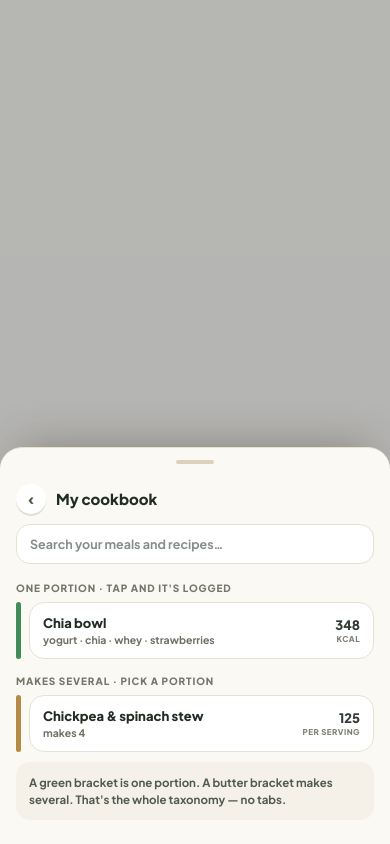
Test: CookbookShelf › filters the shelf client-side, sections included
expect the text "ONE PORTION · TAP AND IT'S LOGGED" is shown: met, box [16,582,232,594]
In the search field labelled "Search your meals and recipes": (195, 544) [16,524,374,564], type "stew"
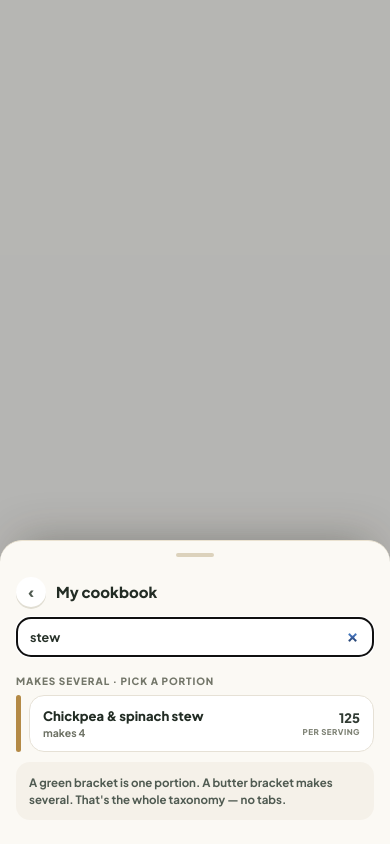
expect the button "Chickpea & spinach stew makes 4 125 PER SERVING" is shown: met, box [29,694,374,752]
expect the text "ONE PORTION · TAP AND IT'S LOGGED" is gone: met
